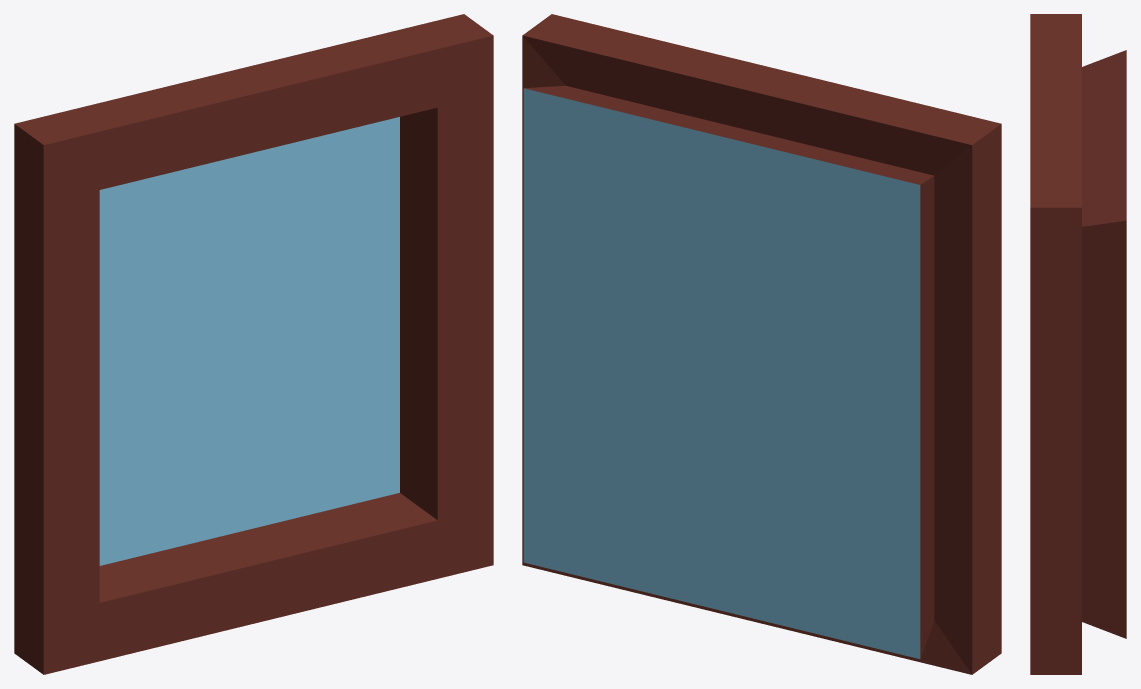
Rendered from Ventana.fbx.
3 renders of one model, left to right at view 1: azimuth 30°, elevation 25°; view 2: azimuth 150°, elevation 25°; view 3: azimuth 270°, elevation 25°, orthographic. The views are drawn at different scales.
Parts seen in each view (by area): view 1: Ventana; view 2: Ventana; view 3: Ventana.
Boxes of the visible parts, x1=… form: Ventana: x1=14, y1=14, x2=493, y2=674; Ventana: x1=522, y1=14, x2=1001, y2=674; Ventana: x1=1030, y1=14, x2=1126, y2=674.
Size of the model in its own units: 271 by 304 by 56.97.
